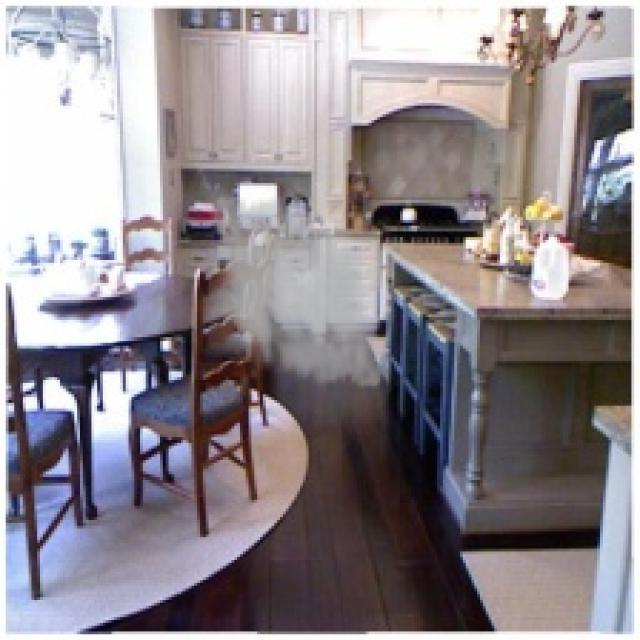smoke: (191, 186, 400, 397)
